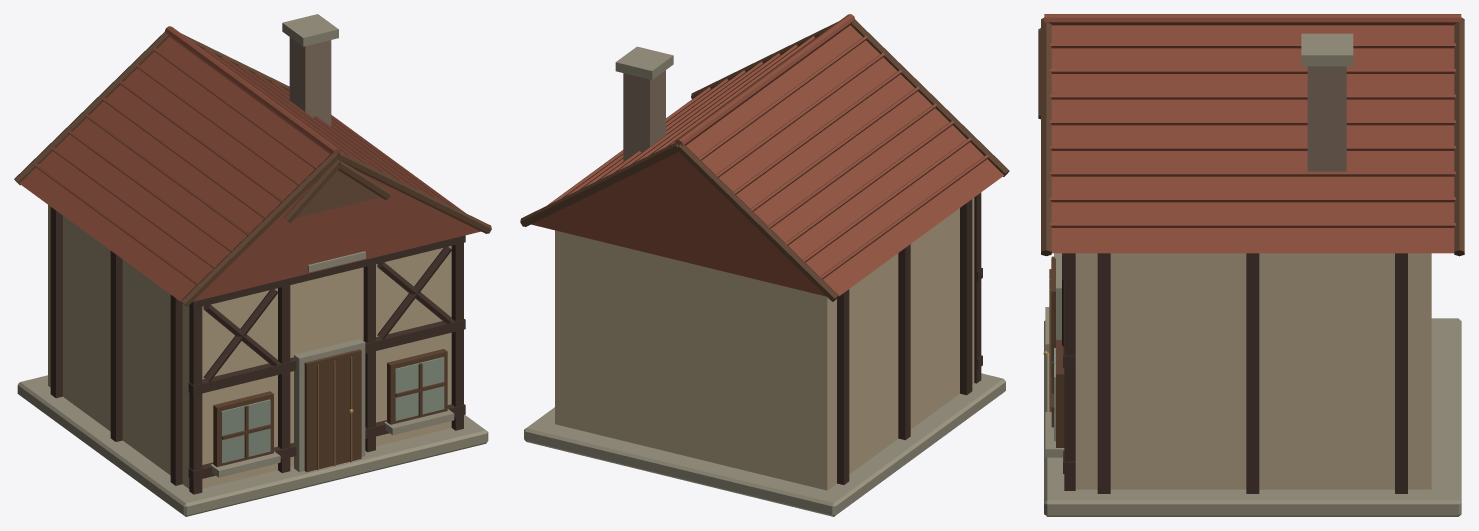
File: build-guildhall.glb
3 views of the same model, side by side, from view 1: azimuth 30°, elevation 25°; view 2: azimuth 150°, elevation 25°; view 3: azimuth 270°, elevation 25° (orthographic). The views are drawn at different scales.
Visible parts, largest first — view 1: SculptedModel; view 2: SculptedModel; view 3: SculptedModel.
Boxes of the visible parts, box(x1,y1,x2,y2) form: SculptedModel: box(14, 14, 491, 516); SculptedModel: box(520, 14, 1009, 516); SculptedModel: box(1038, 14, 1464, 516).
Size of the model in its own units: 4.77 by 5.16 by 4.59.
